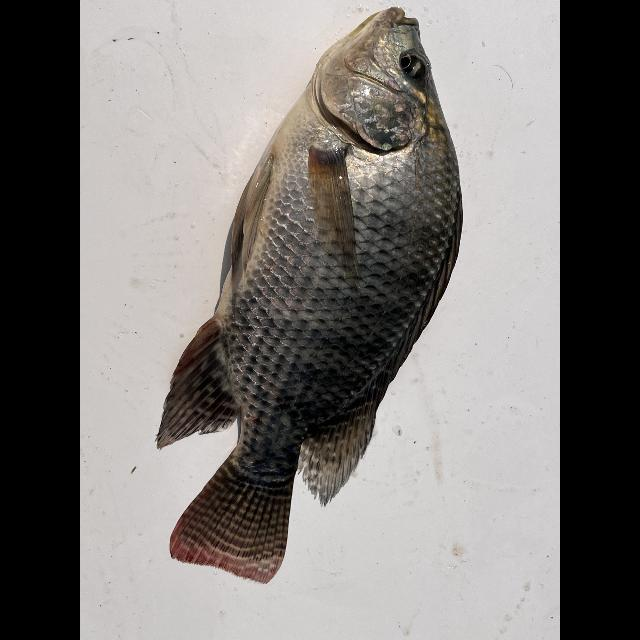Tilapia: (154, 5, 462, 583)
